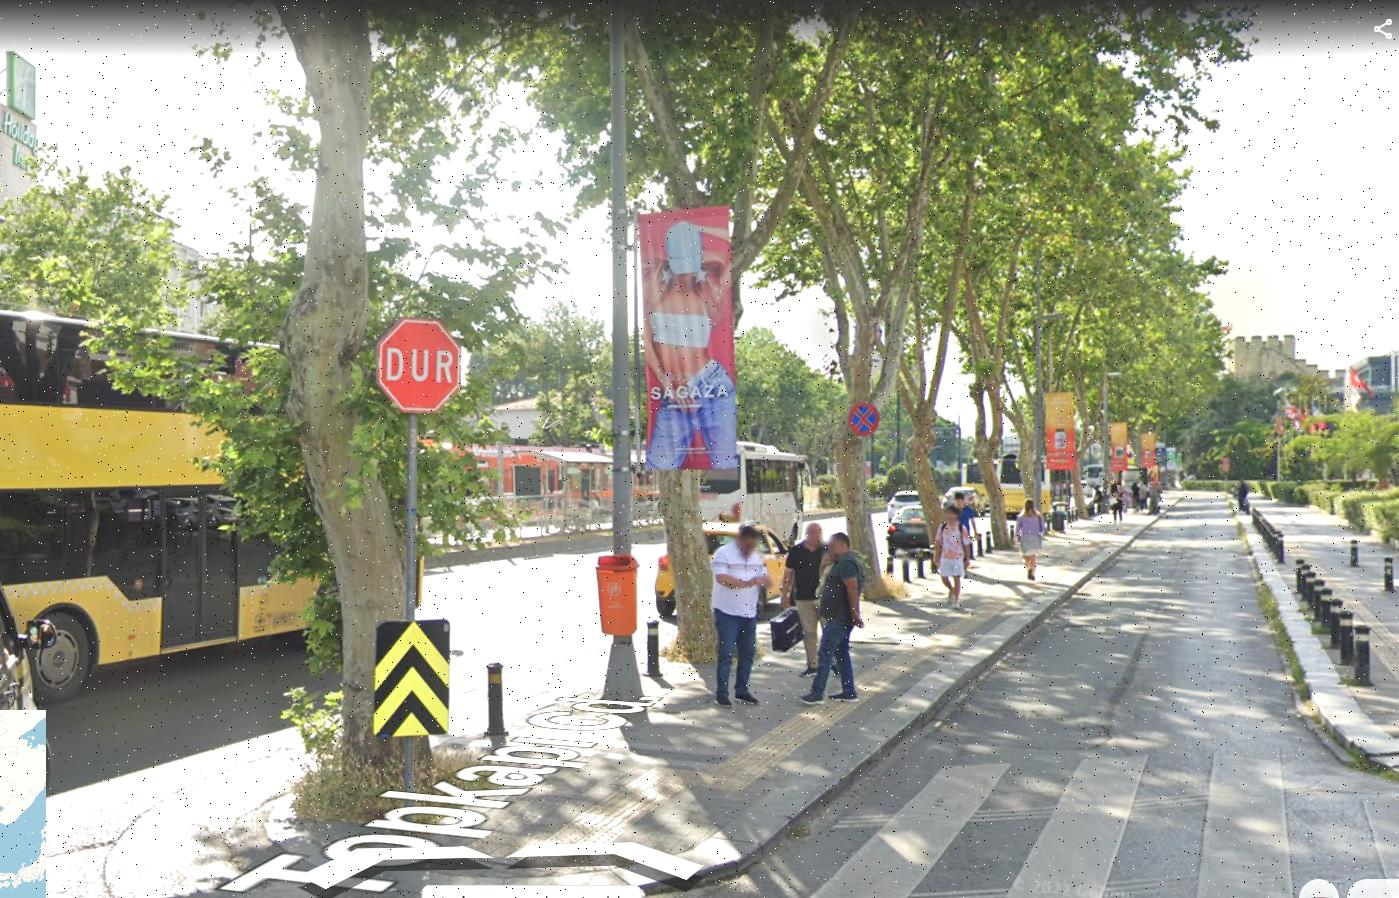stop: (378, 319, 461, 405)
